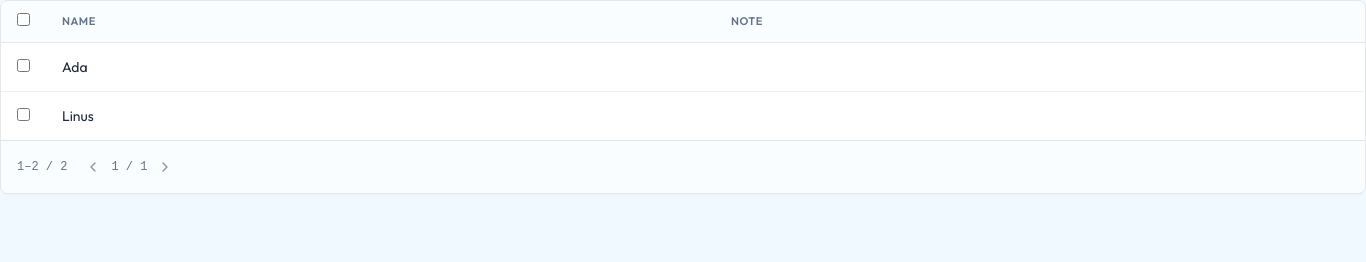
DataTable hardening (K-55 Phase 1-3) › clears selection when data changes to different rows
Note: Select first row
Click the checkbox named "Select row" next to "Ada" at point(24, 65), box [17,59,30,72]
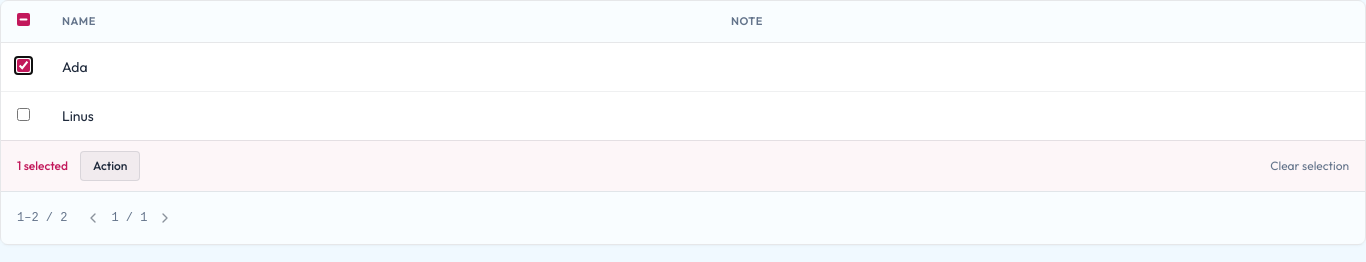
Check: the element named "bulk actions" is shown, box [1,140,1365,191]
